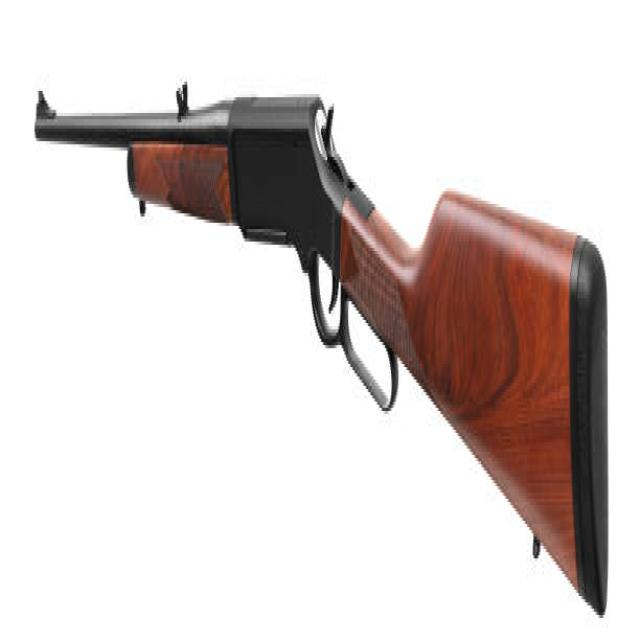rifle: (31, 71, 621, 624)
